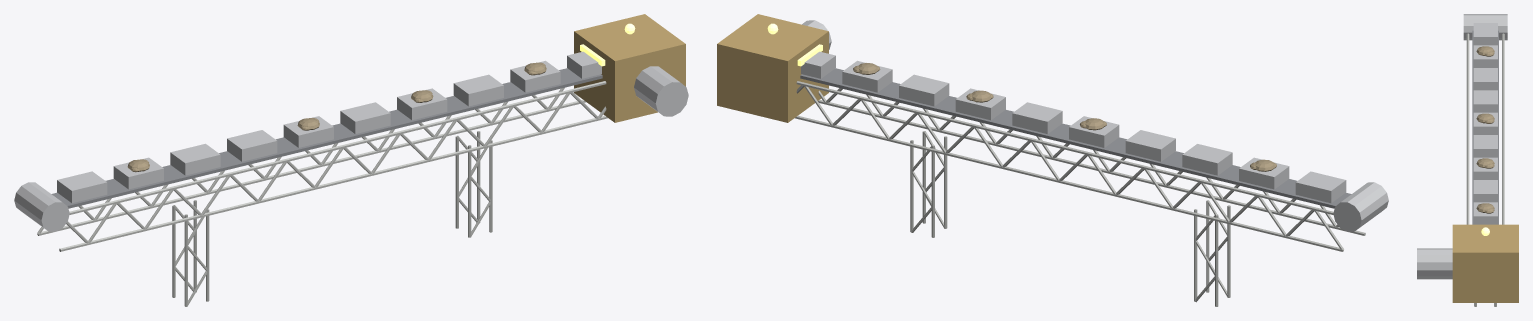
The model's file is conveyor_truss.glb.
The picture shows the model from 3 angles, left to right: view 1: azimuth 30°, elevation 25°; view 2: azimuth 150°, elevation 25°; view 3: azimuth 270°, elevation 25°; orthographic projection. The views are drawn at different scales.
Visible parts, largest first — view 1: span, drive_house, belt, drive_motor, legA, legB, idler, bucket5, bucket7, bucket0, bucket2, bucket3 (+5 smaller); view 2: span, drive_house, belt, legB, legA, idler, bucket0, bucket7, bucket3, bucket5, bucket2, bucket4 (+4 smaller); view 3: drive_house, span, drive_motor, idler, belt, bucket3, bucket5, bucket0, bucket2, bucket7, bucket8, bucket1 (+6 smaller).
Boxes of the visible parts, box(x1,y1,x2,y2) form: span: box(37, 81, 607, 251); drive_house: box(574, 14, 685, 122); belt: box(51, 68, 602, 208); drive_motor: box(634, 66, 688, 116); legA: box(172, 200, 209, 306); legB: box(455, 131, 492, 237); idler: box(14, 182, 69, 231); bucket5: box(340, 102, 390, 133); bucket7: box(453, 74, 503, 106); bucket0: box(57, 171, 107, 203); bucket2: box(170, 143, 220, 175); bucket3: box(227, 130, 277, 161); span: box(795, 81, 1365, 251); drive_house: box(717, 14, 828, 122); belt: box(800, 68, 1351, 208); legB: box(910, 131, 947, 237); legA: box(1194, 200, 1230, 306); idler: box(1333, 182, 1388, 231); bucket0: box(1295, 171, 1346, 203); bucket7: box(899, 74, 949, 106); bucket3: box(1125, 130, 1175, 161); bucket5: box(1012, 102, 1062, 133); bucket2: box(1182, 144, 1232, 175); bucket4: box(1069, 116, 1119, 147); drive_house: box(1452, 224, 1518, 302); span: box(1466, 33, 1504, 224); drive_motor: box(1417, 248, 1452, 279); idler: box(1463, 14, 1507, 40); belt: box(1472, 30, 1498, 224); bucket3: box(1473, 90, 1497, 112); bucket5: box(1473, 135, 1497, 157); bucket0: box(1473, 23, 1497, 45); bucket2: box(1473, 68, 1497, 90); bucket7: box(1473, 180, 1497, 202); bucket8: box(1473, 202, 1497, 224); bucket1: box(1473, 45, 1497, 67).
Bounding box in the file's own units: 27 × 6.83 × 4.6.
